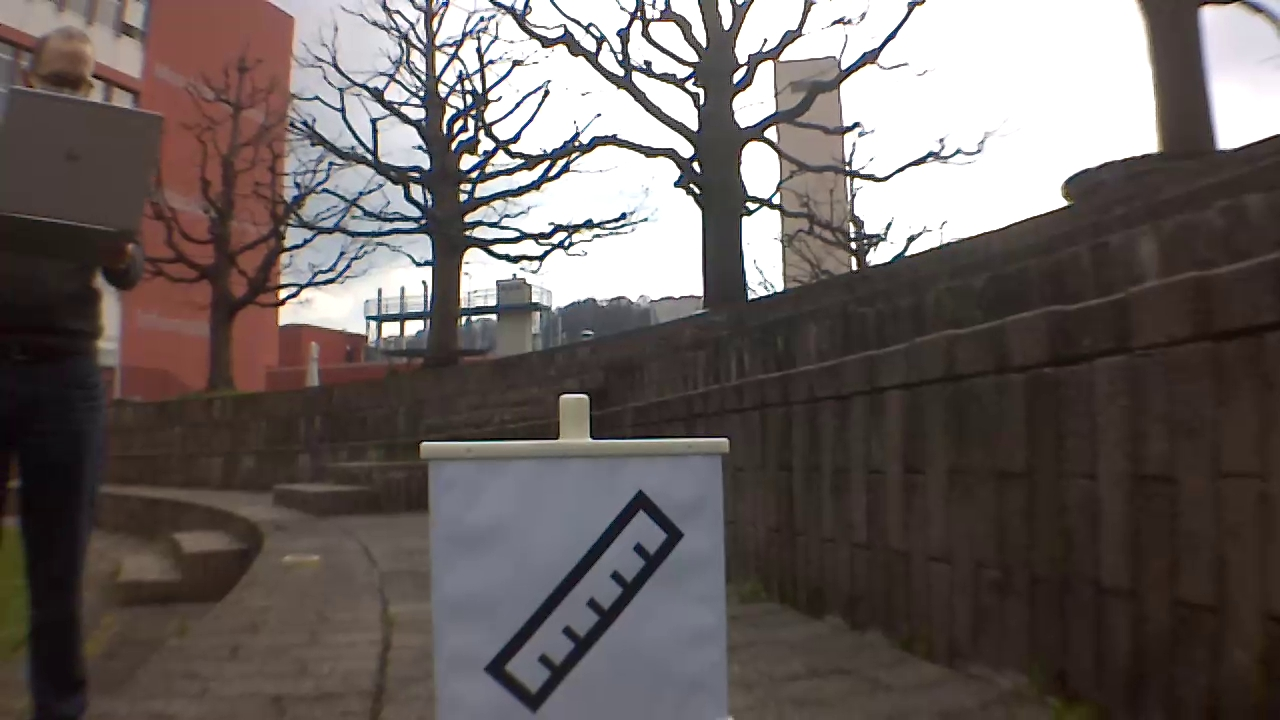ruler: (481, 483, 688, 718)
